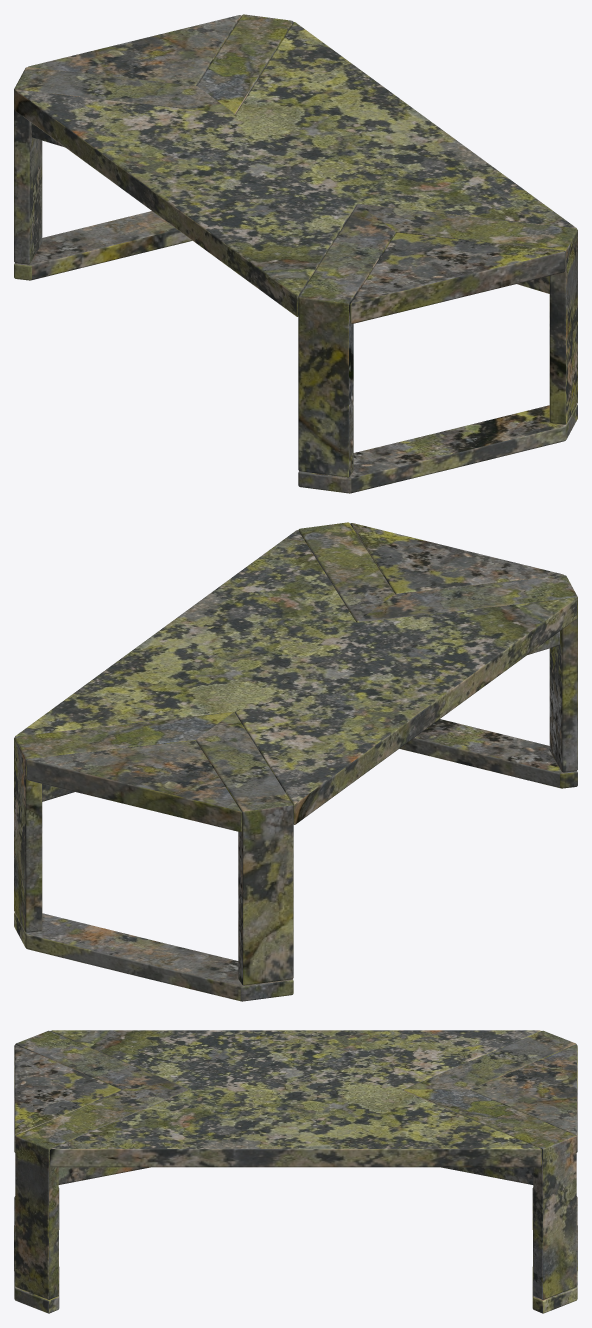
File: modern_coffee_table_01.gltf
The picture shows the model from 3 angles, top to bottom: view 1: azimuth 30°, elevation 25°; view 2: azimuth 150°, elevation 25°; view 3: azimuth 270°, elevation 25°; orthographic projection. The views are drawn at different scales.
Visible parts, largest first — view 1: modern_coffee_table_01; view 2: modern_coffee_table_01; view 3: modern_coffee_table_01.
Part boxes in pixels (x1,y1,x2,y2): modern_coffee_table_01: (14,14,577,493); modern_coffee_table_01: (14,522,577,1001); modern_coffee_table_01: (14,1030,577,1313).
Size of the model in its own units: 0.6 by 0.39 by 1.2.
